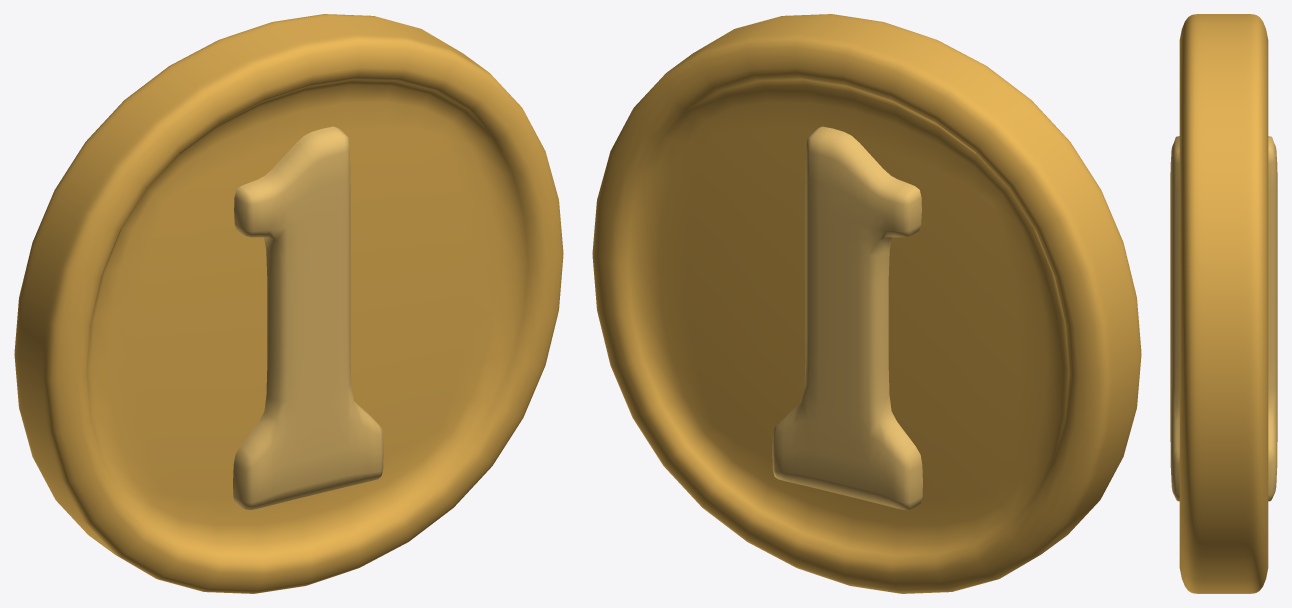
The model's file is Coin.fbx.
3 renders of one model, left to right at view 1: azimuth 30°, elevation 25°; view 2: azimuth 150°, elevation 25°; view 3: azimuth 270°, elevation 25°, orthographic. The views are drawn at different scales.
Parts seen in each view (by area): view 1: Coin; view 2: Coin; view 3: Coin.
Boxes of the visible parts, bbox=[...] form: Coin: bbox=[14, 14, 563, 593]; Coin: bbox=[592, 14, 1141, 593]; Coin: bbox=[1170, 14, 1277, 593].
Bounding box in the file's own units: 179 × 33.49 × 179.
